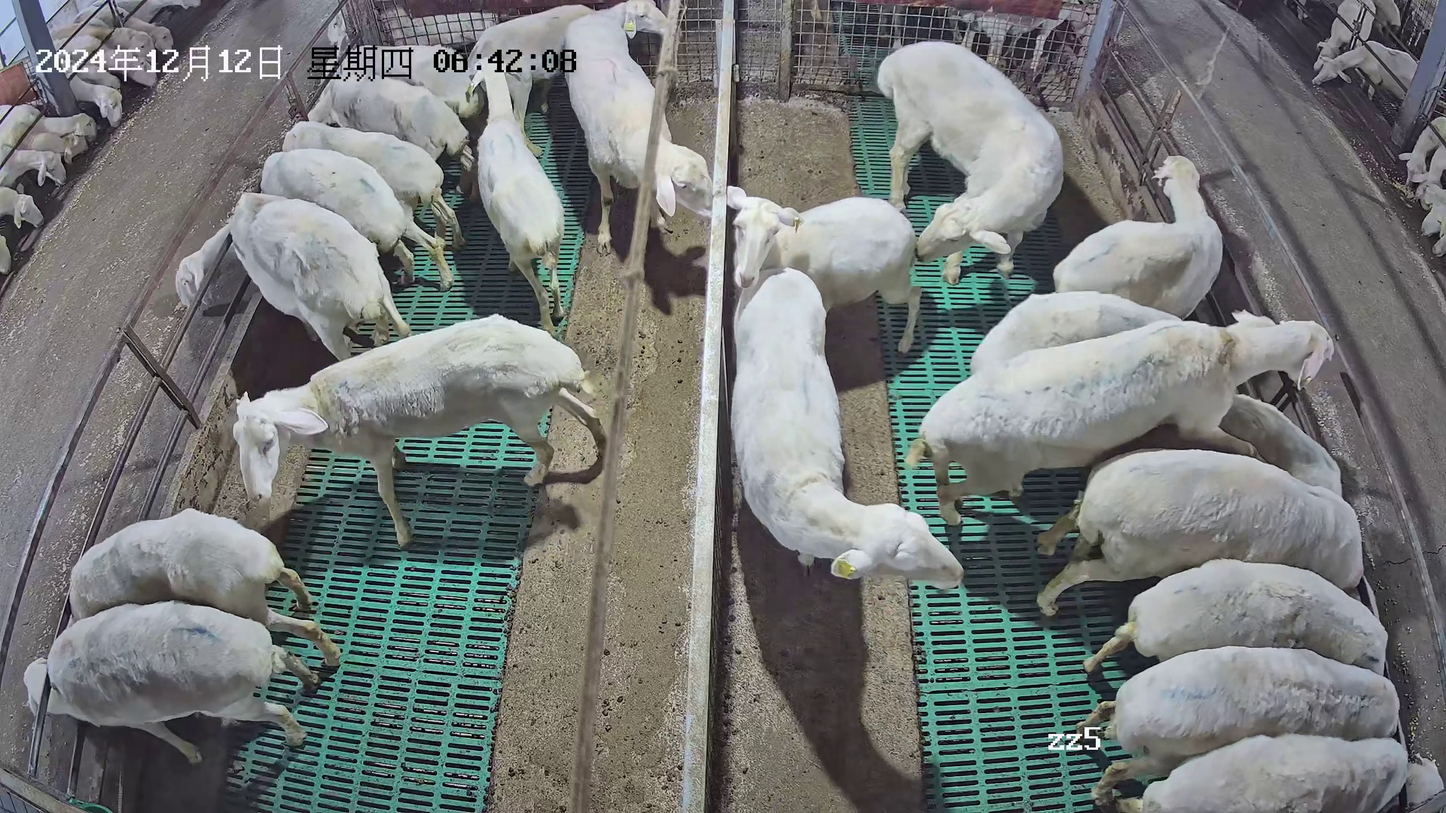Smounting: (907, 316, 1347, 562)
mounted: (1034, 391, 1343, 558)
